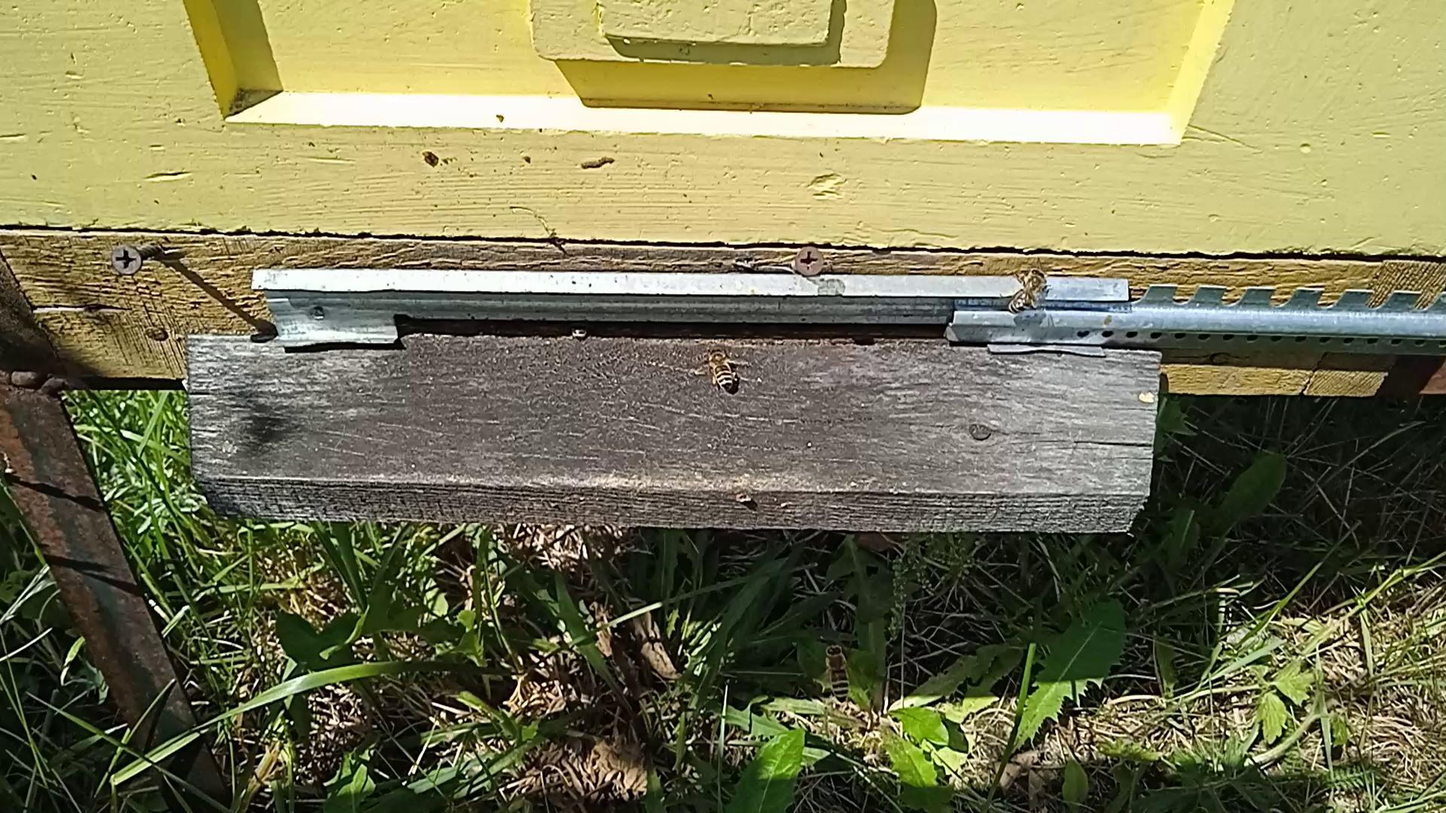worker-bee: (1010, 268, 1049, 313), (703, 347, 741, 393), (822, 643, 850, 702), (567, 320, 592, 342)
